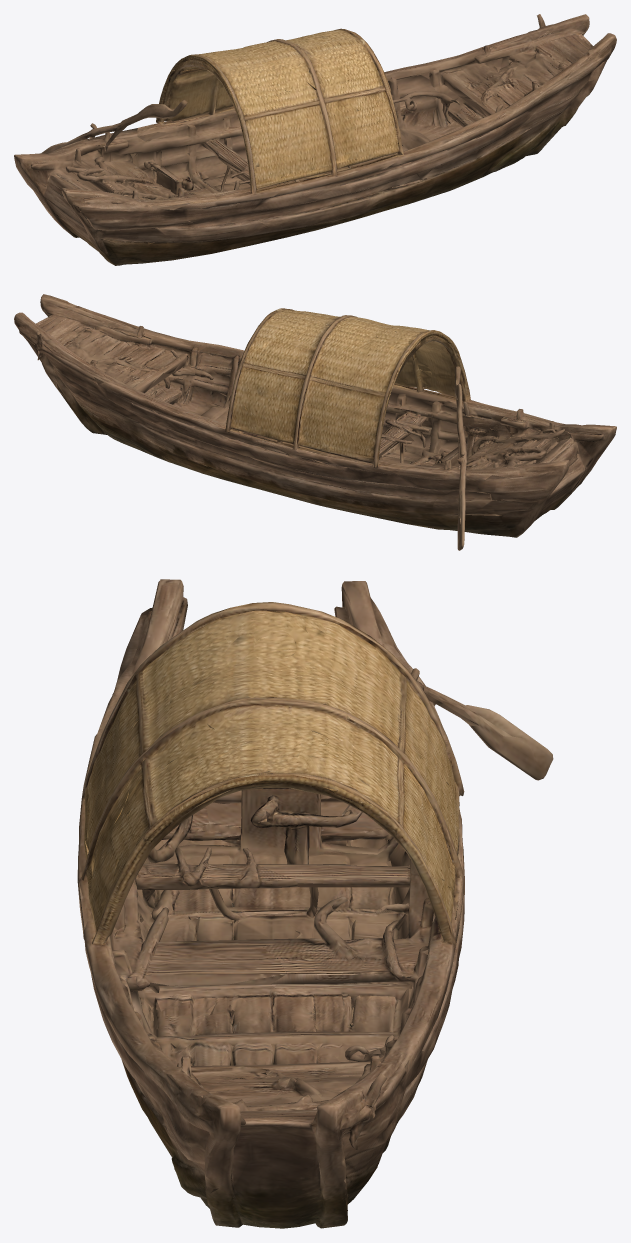
Rendered from wasen.glb.
The picture shows the model from 3 angles, top to bottom: view 1: azimuth 30°, elevation 25°; view 2: azimuth 150°, elevation 25°; view 3: azimuth 270°, elevation 25°; orthographic projection. The views are drawn at different scales.
Parts seen in each view (by area): view 1: output_unwrapped; view 2: output_unwrapped; view 3: output_unwrapped.
Boxes of the visible parts, x1,y1,x2,y2 form: output_unwrapped: (14,14,616,265); output_unwrapped: (14,294,616,550); output_unwrapped: (77,579,553,1228).
Size of the model in its own units: 6.4 by 1.75 by 2.36.
1 material, 1 textured.
